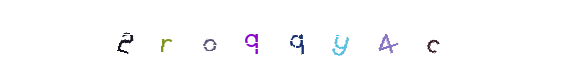2: (124, 0, 204, 80)
4: (297, 0, 377, 80)
C: (300, 0, 380, 80)
O: (213, 0, 293, 80)
Q: (224, 0, 304, 80), (242, 0, 322, 80)
R: (183, 0, 263, 80)
Y: (250, 0, 330, 80)
